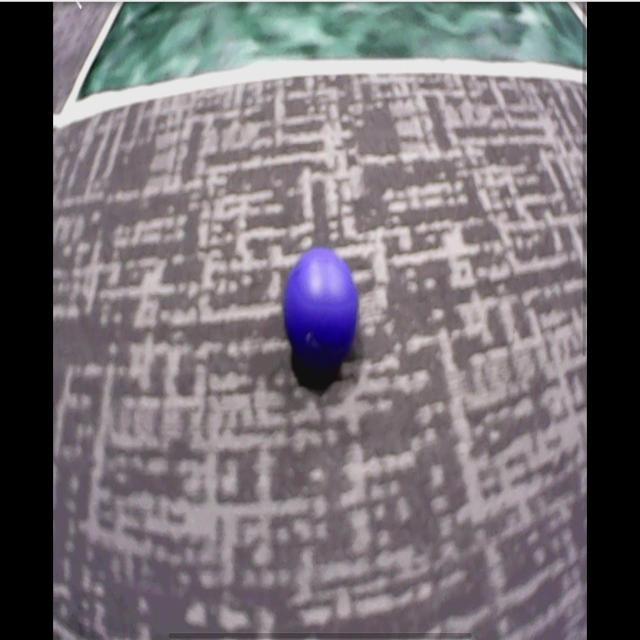ball: (286, 251, 358, 367)
